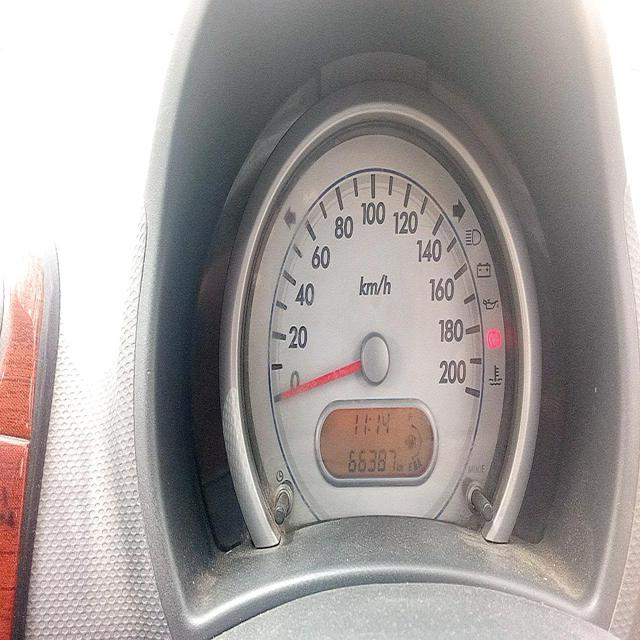odometer: (346, 444, 399, 479)
